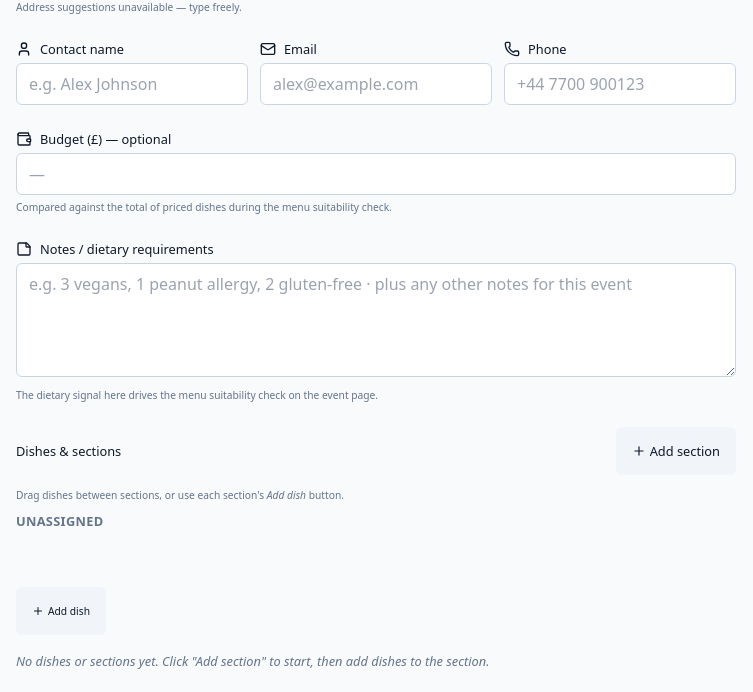
EventEditor › Cancel on a new dish draft discards it
(page scrolled)
Click the button "Add dish" at (61, 611), box top-left (16, 587), bottom-right (106, 635)
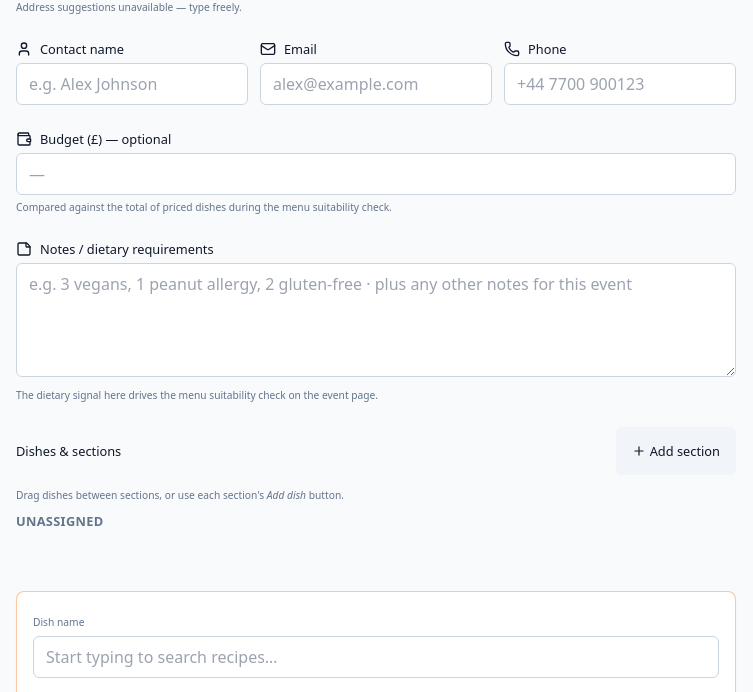
Type "Temp" into the field named "dish name" at (376, 657), box top-left (33, 636), bottom-right (719, 678)
(page scrolled)
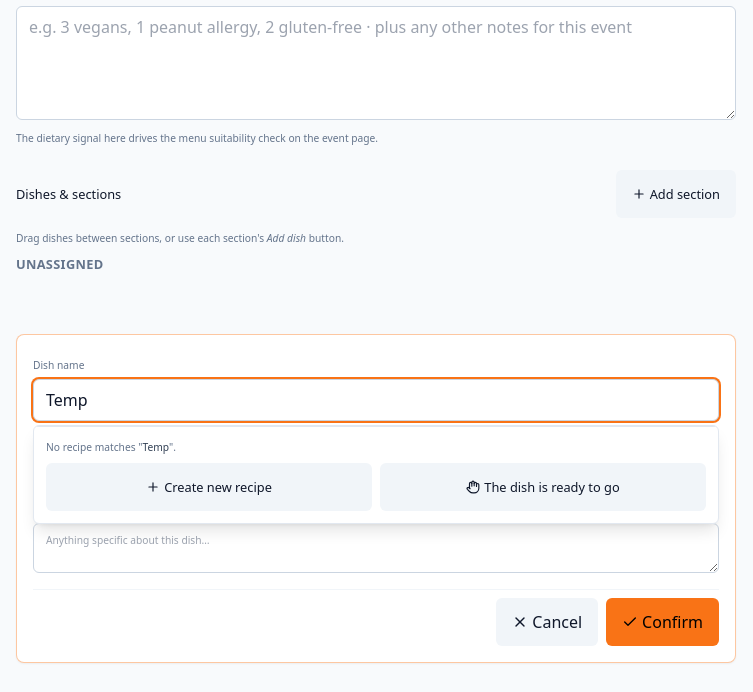
Click the button with aria-label "cancel dish" at (547, 622), box top-left (496, 598), bottom-right (598, 646)
(page scrolled)
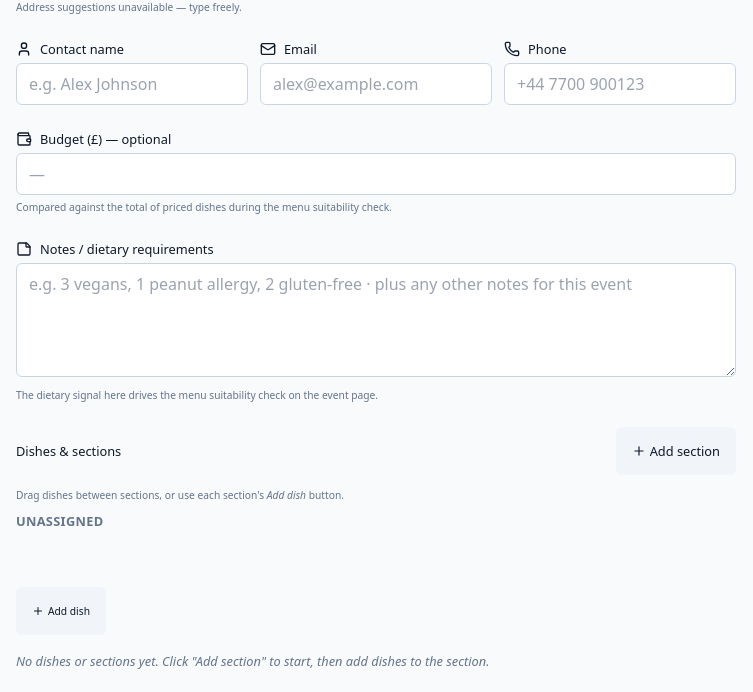
Check: the text "Temp" is gone
Check: the text "No dishes or sections yet" is shown, box top-left (16, 652), bottom-right (490, 670)
